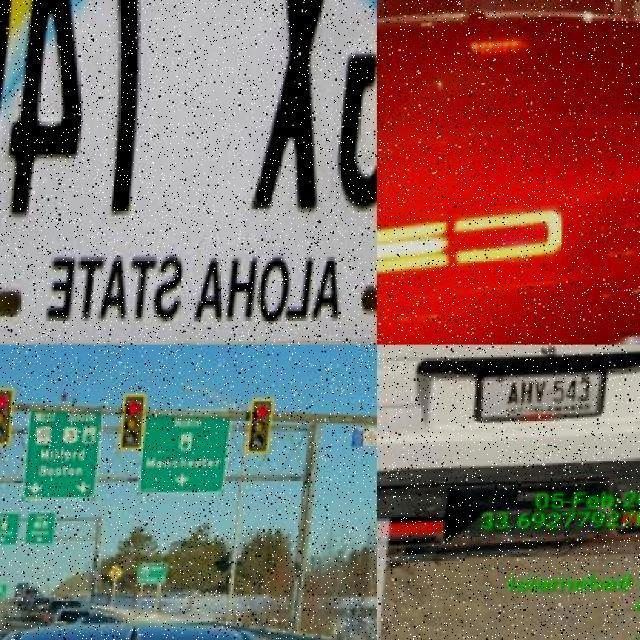LicensePlate: (0, 0, 377, 272), (485, 368, 613, 433)
